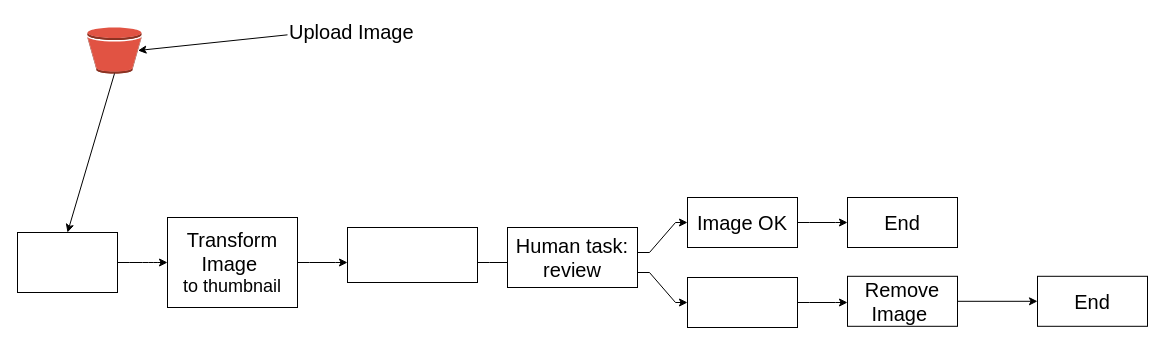
The diagram is 1165 pixels wide and 345 high, and some of its shapes have lost their labels. The centre of each missing label's shape, as x and y in pixels:
"Image Not OK" belongs at (742,302).
"Mail thumbnail" belongs at (412,254).
"Start Workflow" belongs at (67,262).
